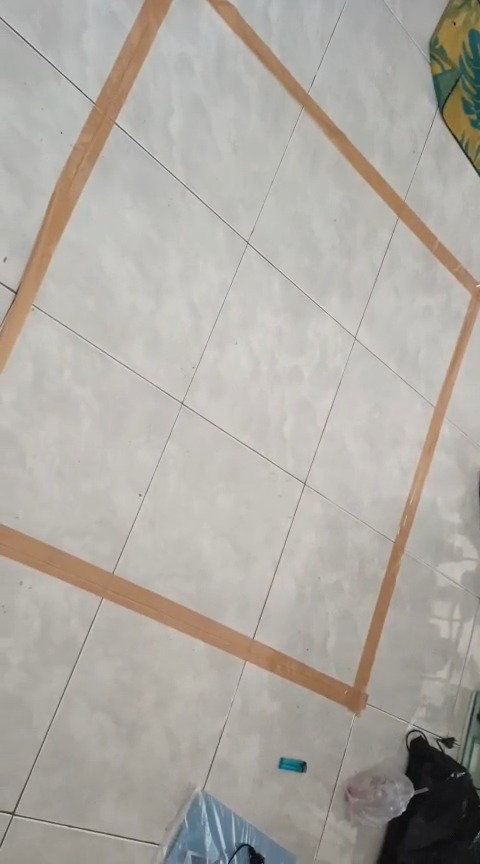floor marking: (0, 0, 479, 714), (0, 0, 171, 371)
